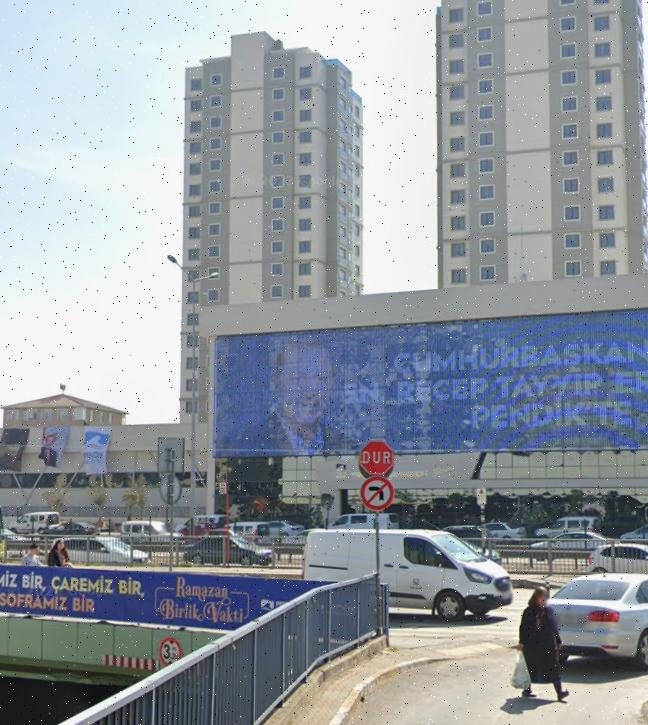leftturnsareforbidden: (361, 477, 392, 510)
stop: (361, 439, 394, 476)
